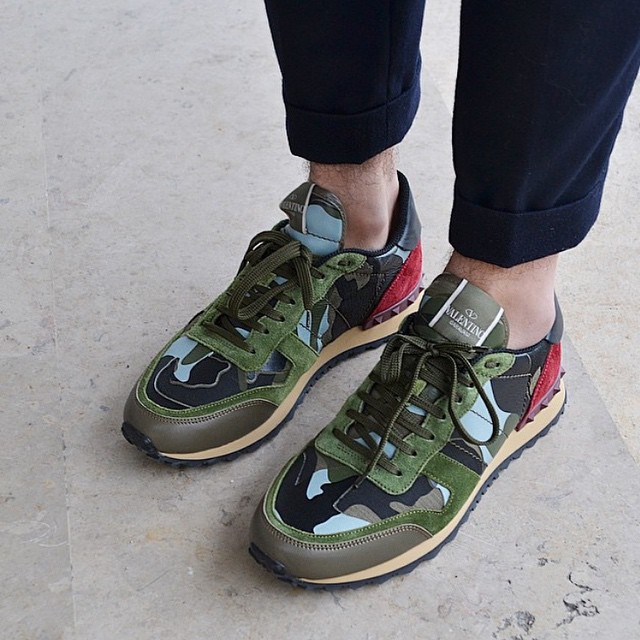sneaker: (225, 230, 590, 628), (97, 152, 436, 490)
